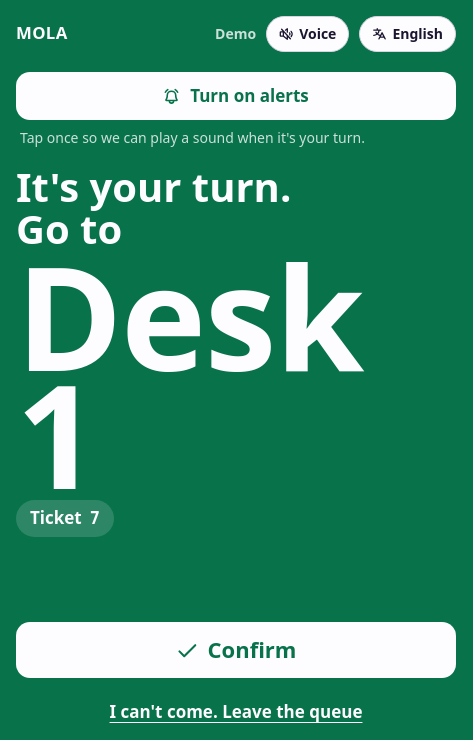
confirming a called ticket › shows pending, retries after one second and clears pending when serving
Later steps or results of the test are not shown.
Click the button "Confirm".
click(236, 650)  # box x1=16 y1=622 x2=456 y2=678
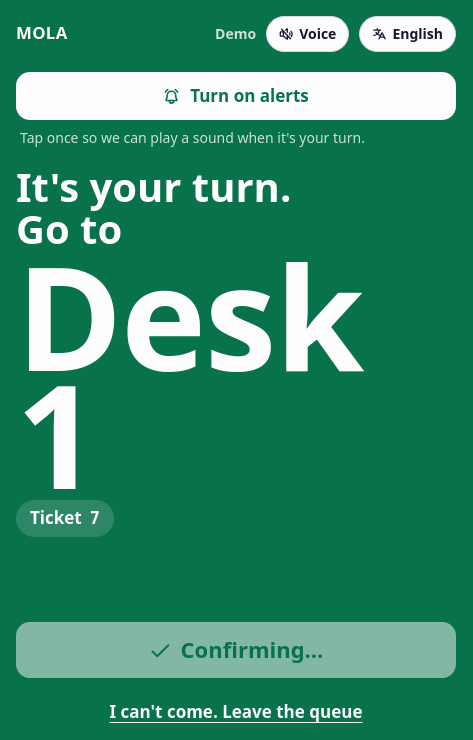
Expected: the button "Confirming…" is disabled
Click the button "Confirming…".
click(236, 650)  # box x1=16 y1=622 x2=456 y2=678
Wait 2000 ms
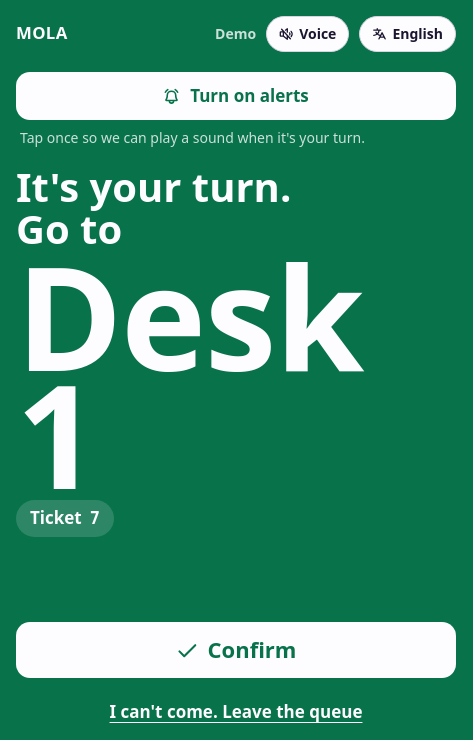
Expected: the button "Confirming…" is gone
Expected: the button "Confirm" is enabled, x1=16 y1=622 x2=456 y2=678
